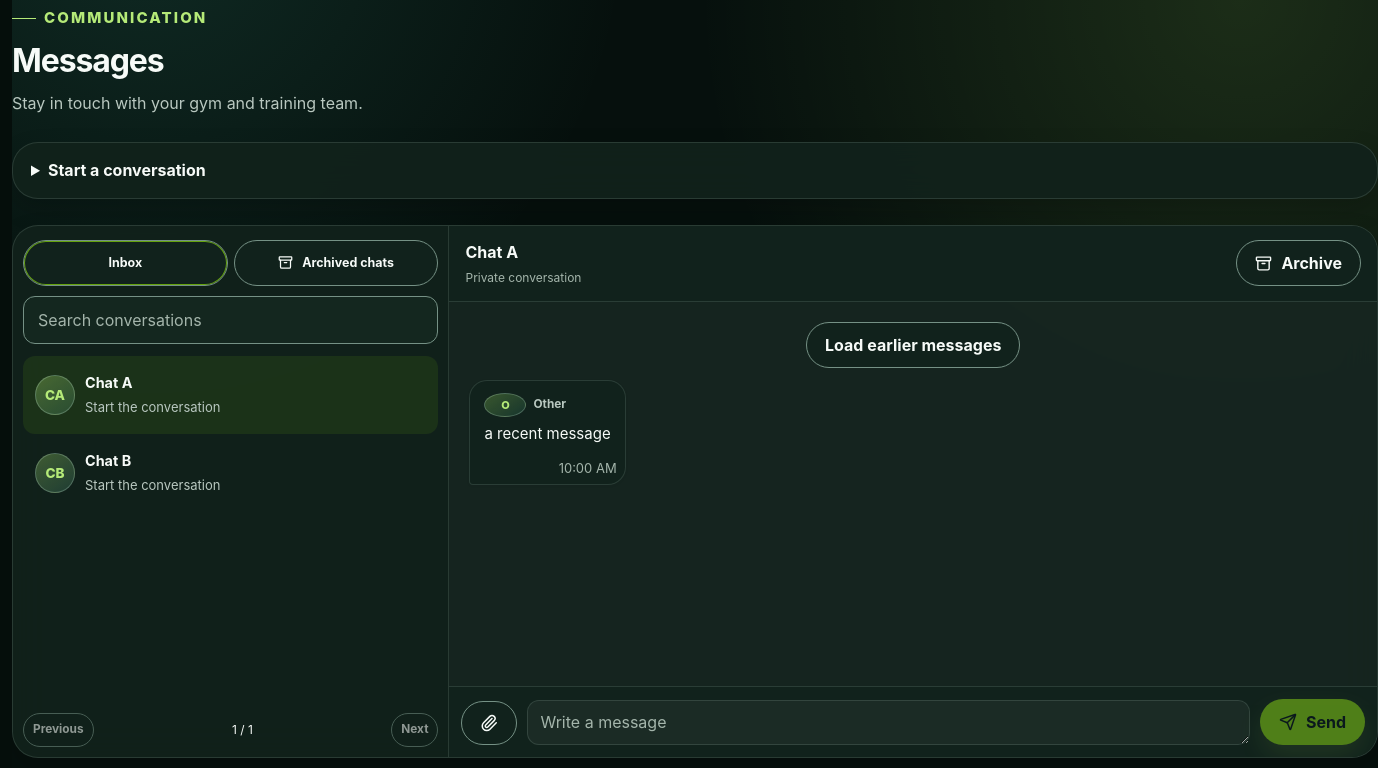
Test: discards a prior thread's late history response and cursor after selection changes
Click the button with class "chat-load" at {"x": 913, "y": 345}, box [806,322,1020,368]
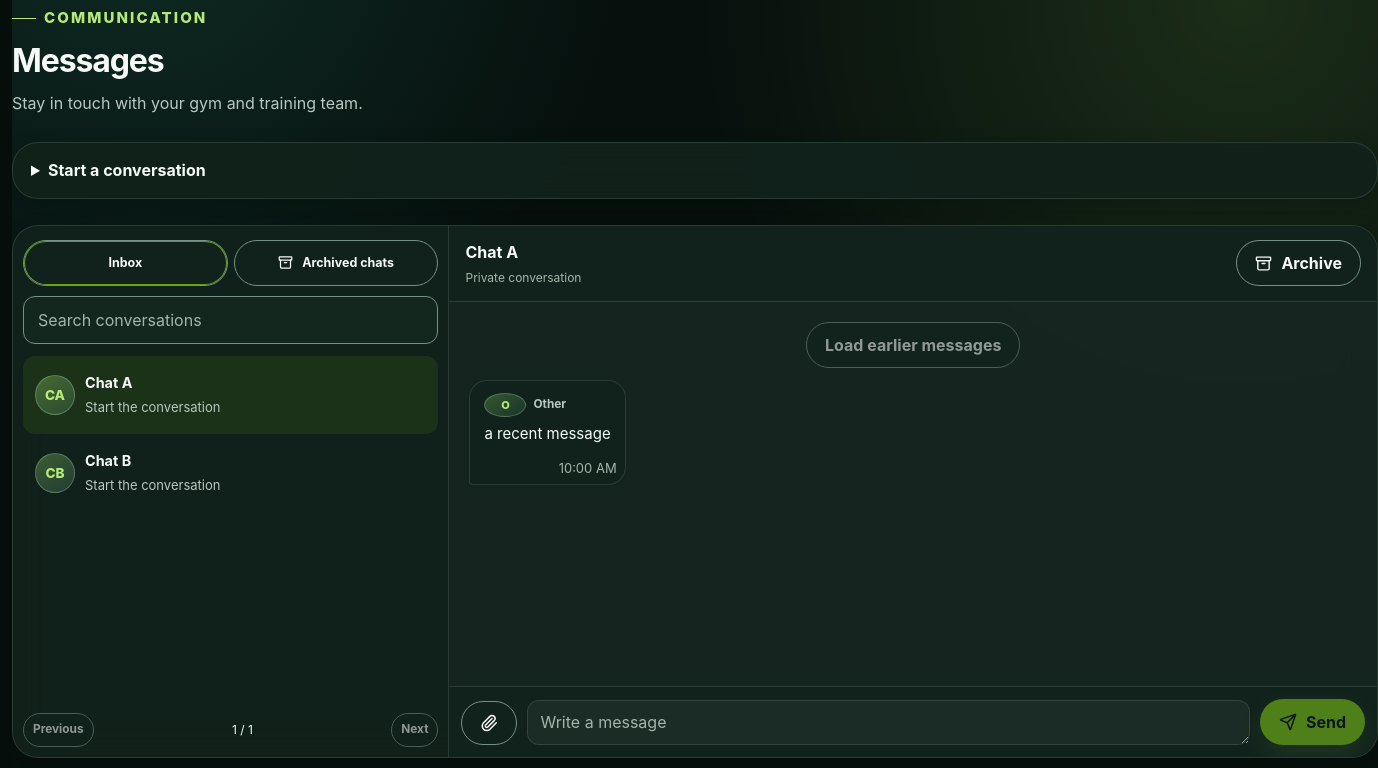
Click the button with class "conversation" that starts with "Chat B" at {"x": 55, "y": 473}, box [23,434,438,512]
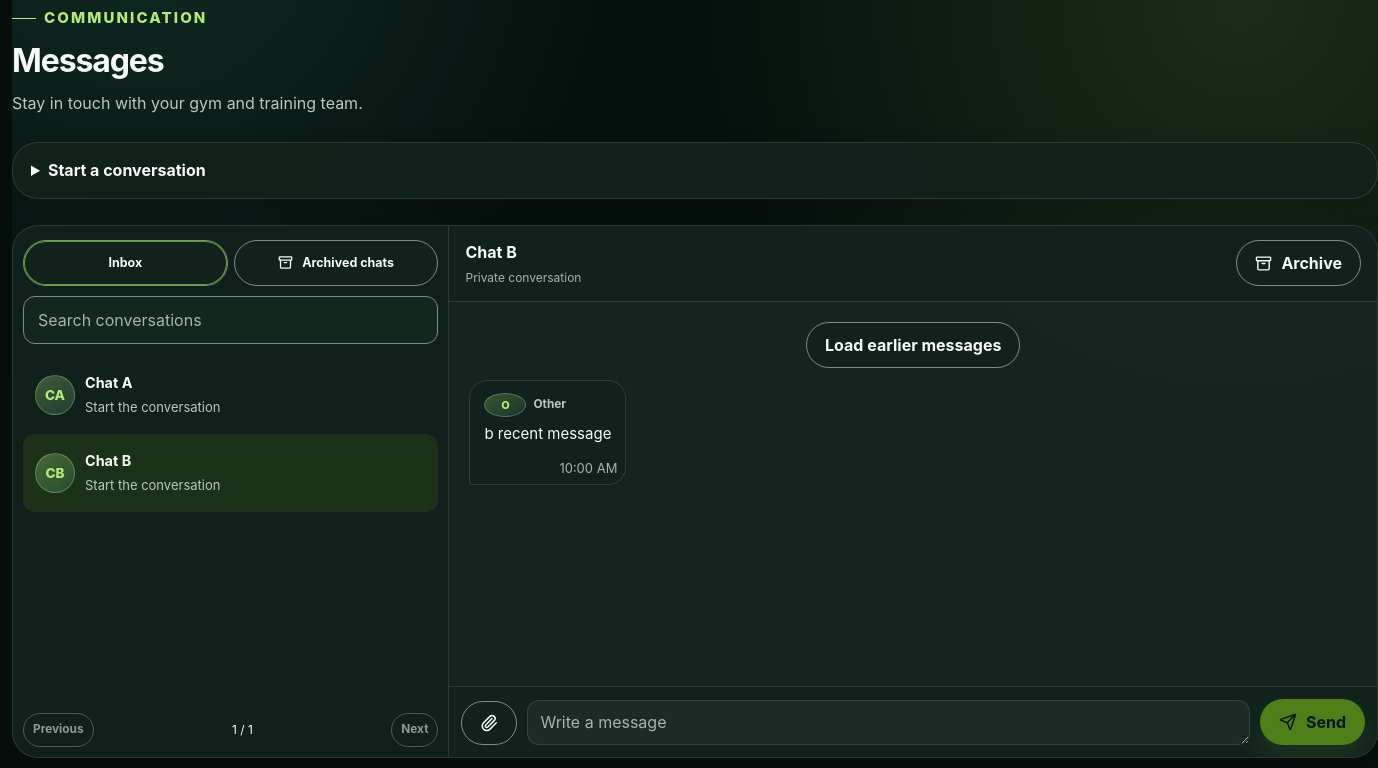
expect the button with class "chat-load" is shown: met, box [806,322,1020,368]
expect the text "b recent message" is shown: met, box [484,423,611,446]
